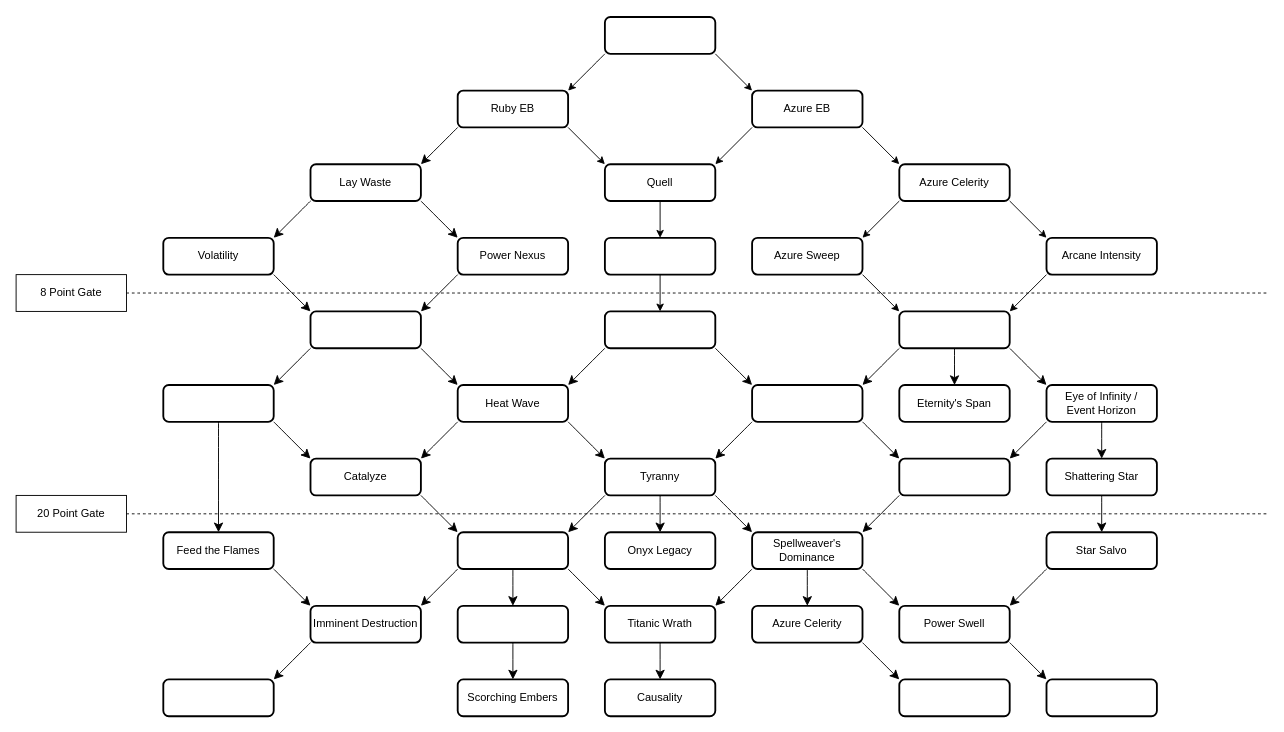
Image size: 1284x732. Some labels were removed from this diagram. Each missing label, with the box of its shape:
Animosity: (604, 310, 716, 349)
Burnout: (456, 531, 569, 569)
Charged Blast: (898, 457, 1010, 496)
Dragonrage: (604, 236, 716, 275)
Engulfing Blaze: (162, 384, 274, 422)
Essence Attunement: (898, 310, 1010, 349)
Font of Magic: (456, 604, 569, 643)
Honed Aggression: (751, 384, 863, 422)
Iridescence: (1045, 678, 1157, 717)
Pyre: (604, 16, 716, 54)
Ruby Embers: (309, 310, 421, 349)
Scintilations: (898, 678, 1010, 717)
Strafing Run: (162, 678, 274, 717)
